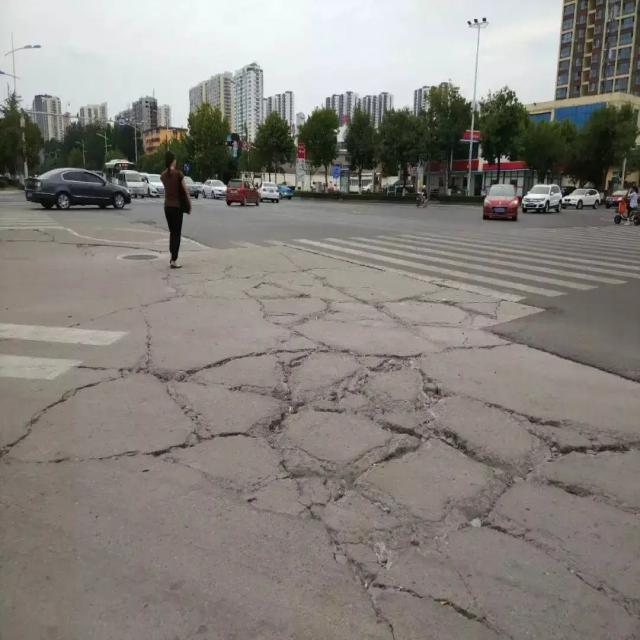Pothole: (114, 346, 626, 618), (203, 259, 529, 336)
